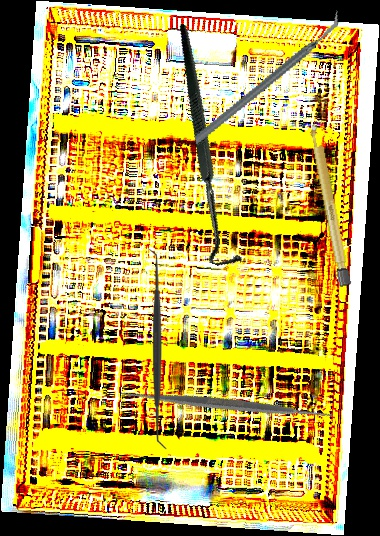Chopper: (171, 10, 363, 145)
Hook Surgical: (109, 23, 310, 273)
Scalpel Handle: (307, 121, 353, 288)
Spatula Surgical: (113, 290, 342, 520), (147, 249, 168, 450)
